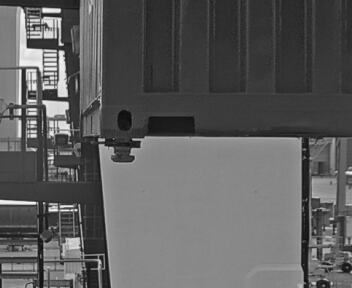twist_lock_1: (99, 130, 146, 167)
